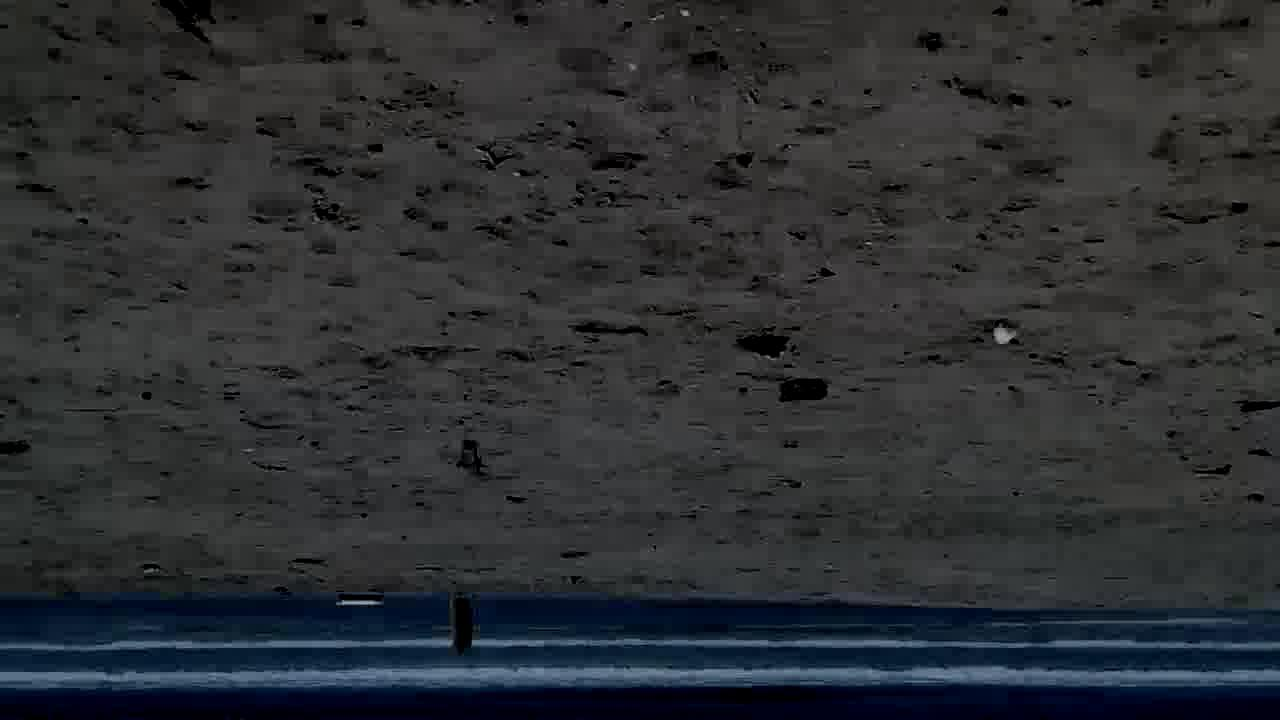obj: (453, 436, 482, 485), (736, 337, 794, 360), (776, 380, 826, 402), (992, 319, 1024, 347), (328, 596, 381, 607), (1240, 400, 1278, 412), (1245, 449, 1273, 457)
sand/background: (0, 591, 1279, 719)
